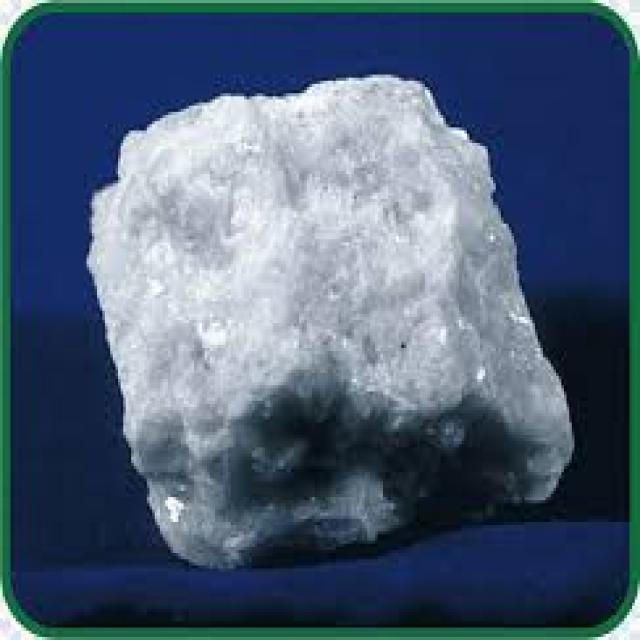Metamorphic: (74, 68, 590, 581)
